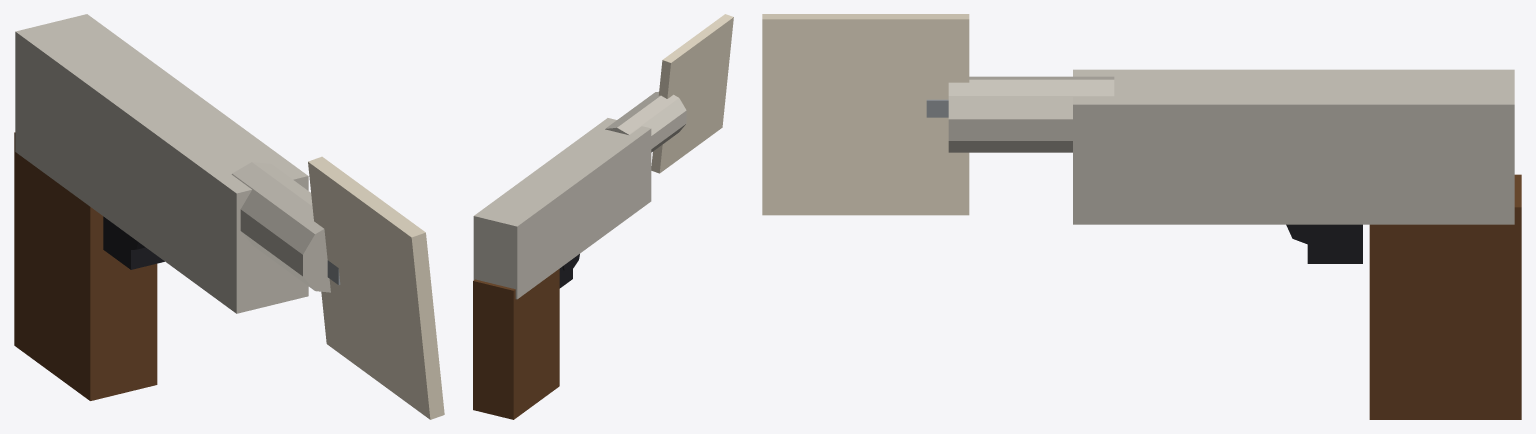
Rendered from gun_gag.glb.
3 views of the same model, side by side, from view 1: azimuth 30°, elevation 25°; view 2: azimuth 150°, elevation 25°; view 3: azimuth 270°, elevation 25° (orthographic). The views are drawn at different scales.
Parts seen in each view (by area): view 1: gun_gag; view 2: gun_gag; view 3: gun_gag.
Part boxes in pixels (bbox=[...]): gun_gag: bbox=[14, 14, 444, 419]; gun_gag: bbox=[473, 14, 733, 419]; gun_gag: bbox=[762, 14, 1521, 419].
Bounding box in the file's own units: 0.03 × 0.1531 × 0.275.
